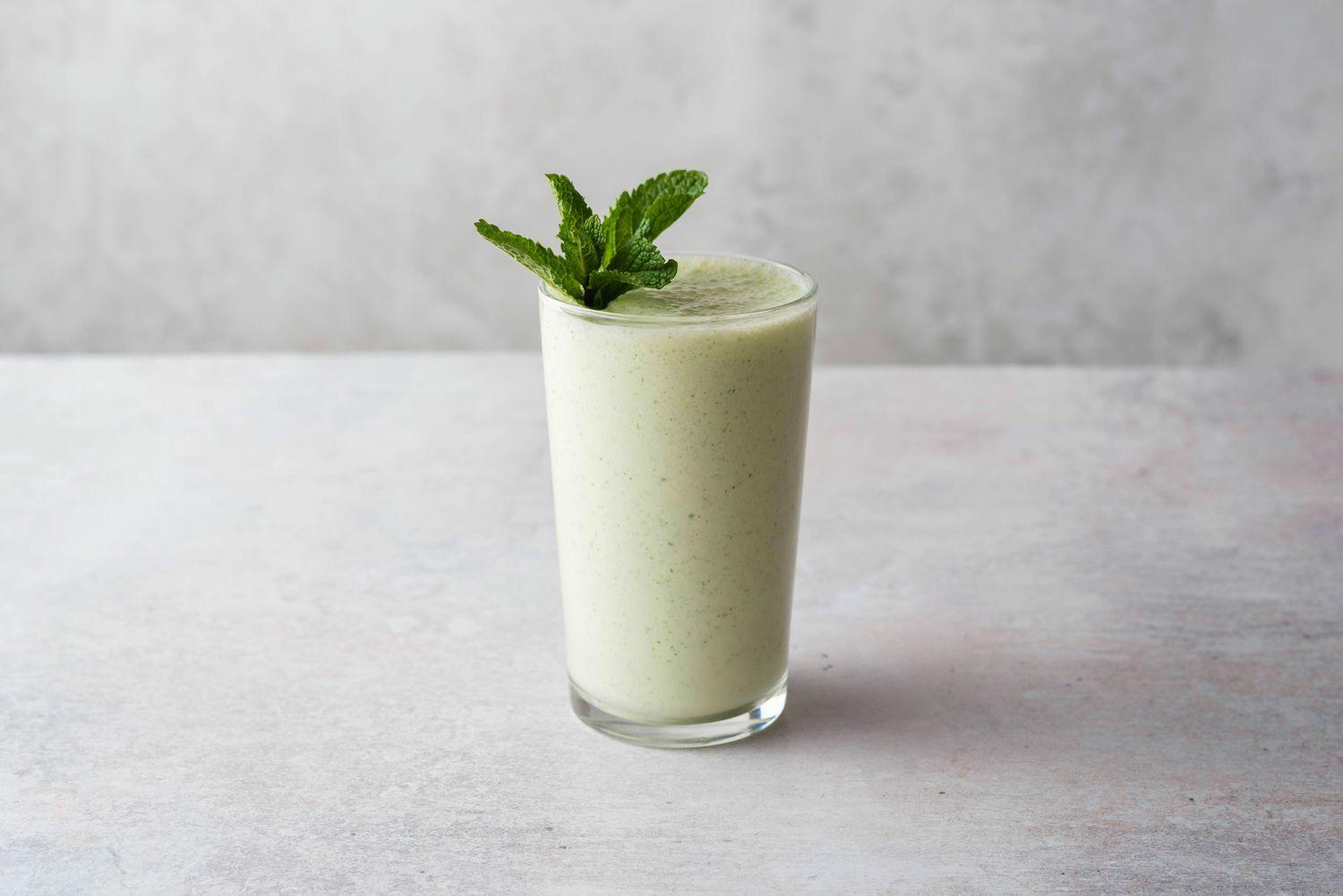Lassi: (539, 259, 816, 720)
